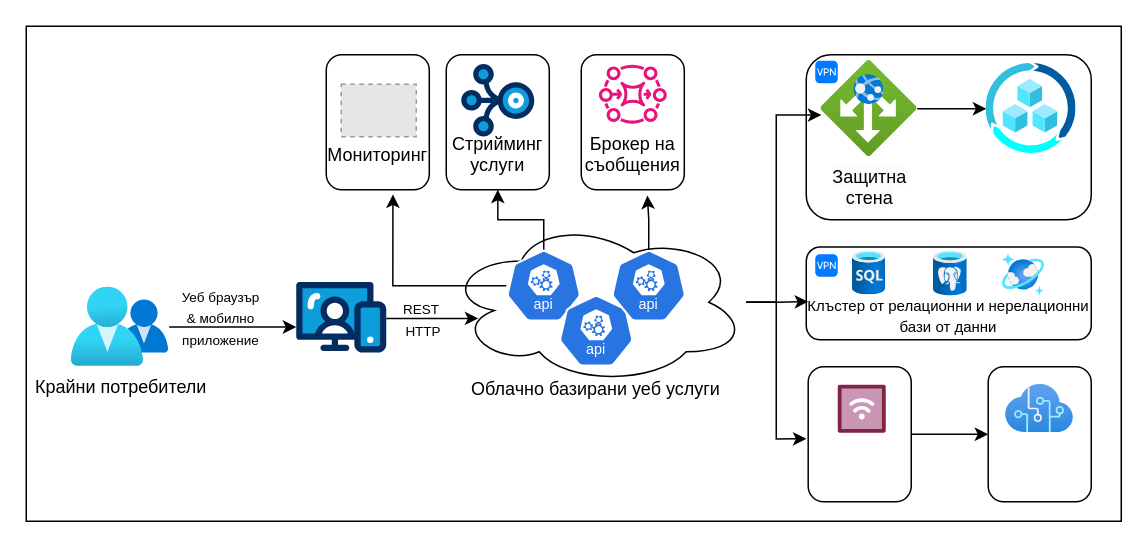
Image size: 1148x548. Some labels were removed from this diagram. Grey dashed boxes stand in for pictures. The shapes that lost their labels are listed below. From the top down, each one's centre as x and y in pixels, then its label:
At (x=1031, y=108): "Вътрешни системи".
At (x=340, y=316): "Клиентски приложения".
At (x=861, y=408): "Интернет на нещата".
At (x=1039, y=408): "Kогнитивни услуги".
